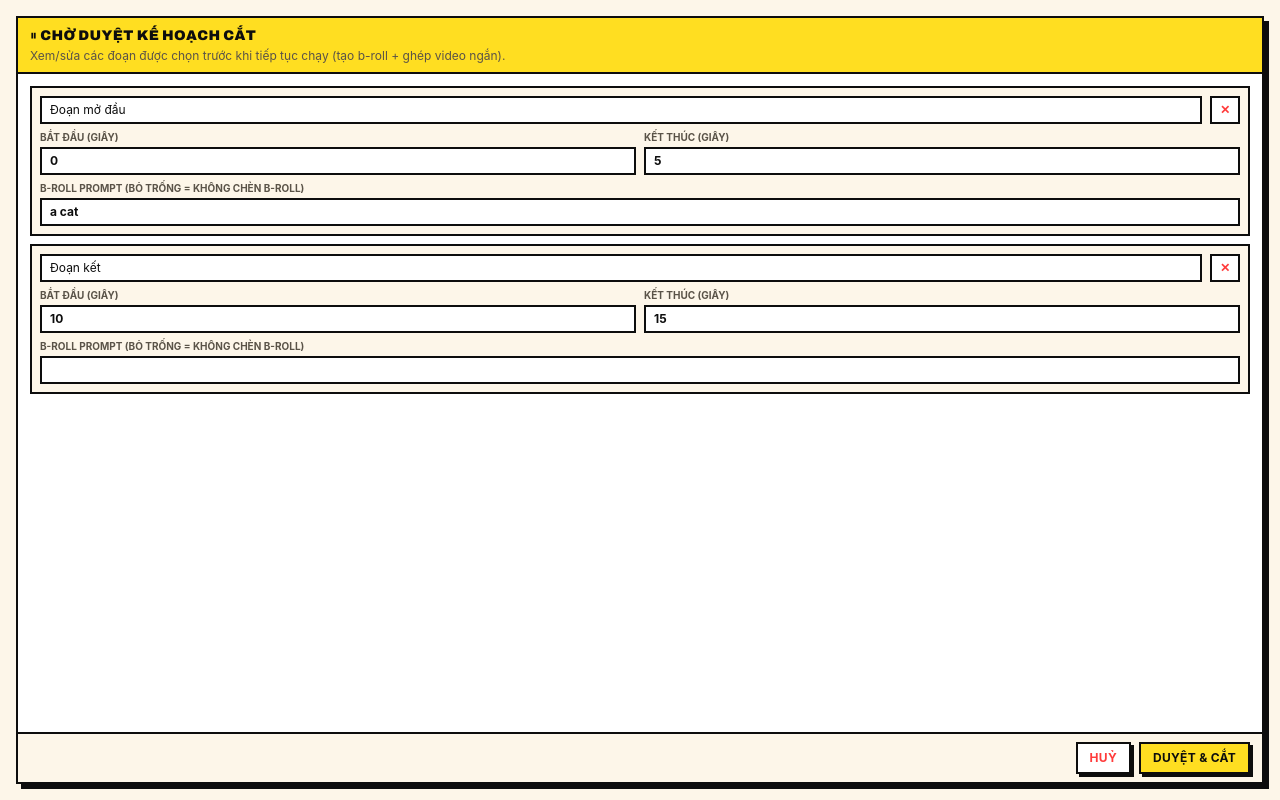
Test: CutPlanReview › disables "Duyệt & cắt" once every moment has been deleted
This screenshot has width=1280, height=800.
Click the button with test id "cutplan-delete-m1": (1225, 110) [1210,96,1240,124]
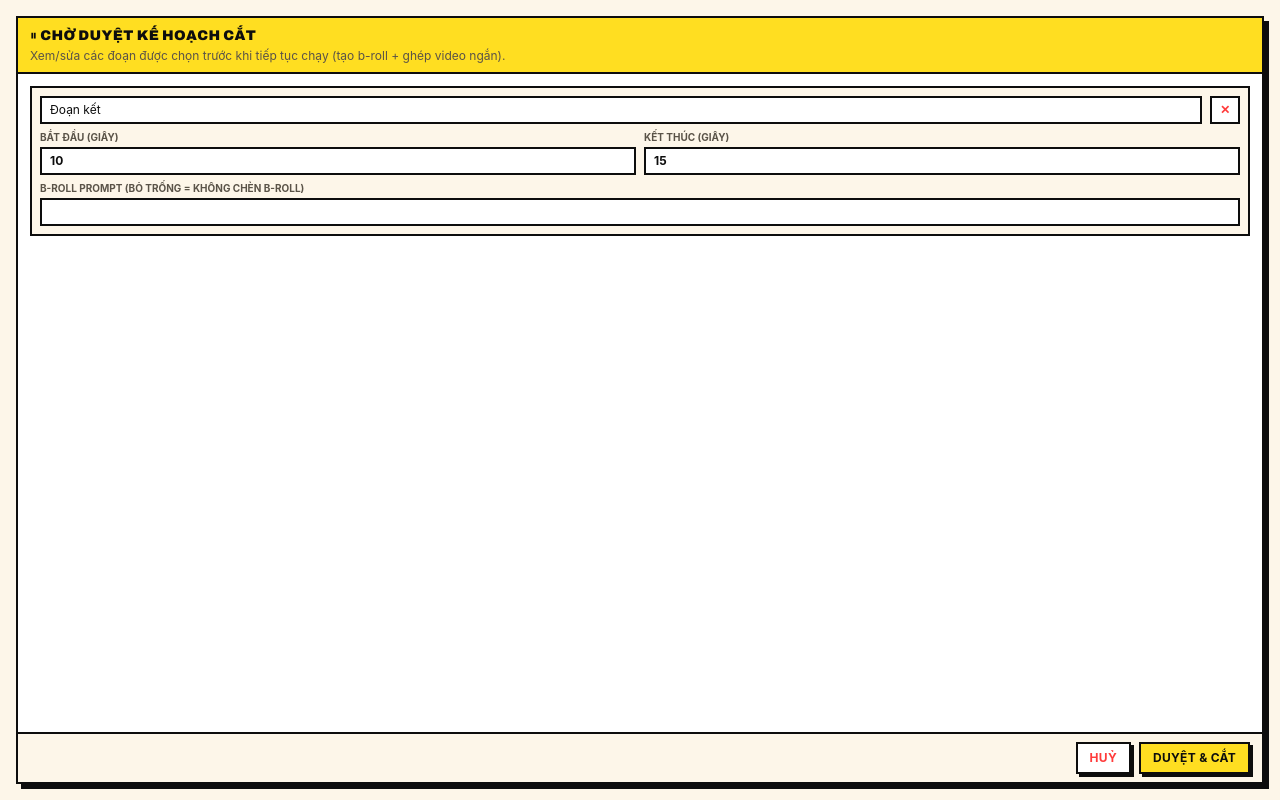
Click the button with test id "cutplan-delete-m2": (1225, 110) [1210,96,1240,124]
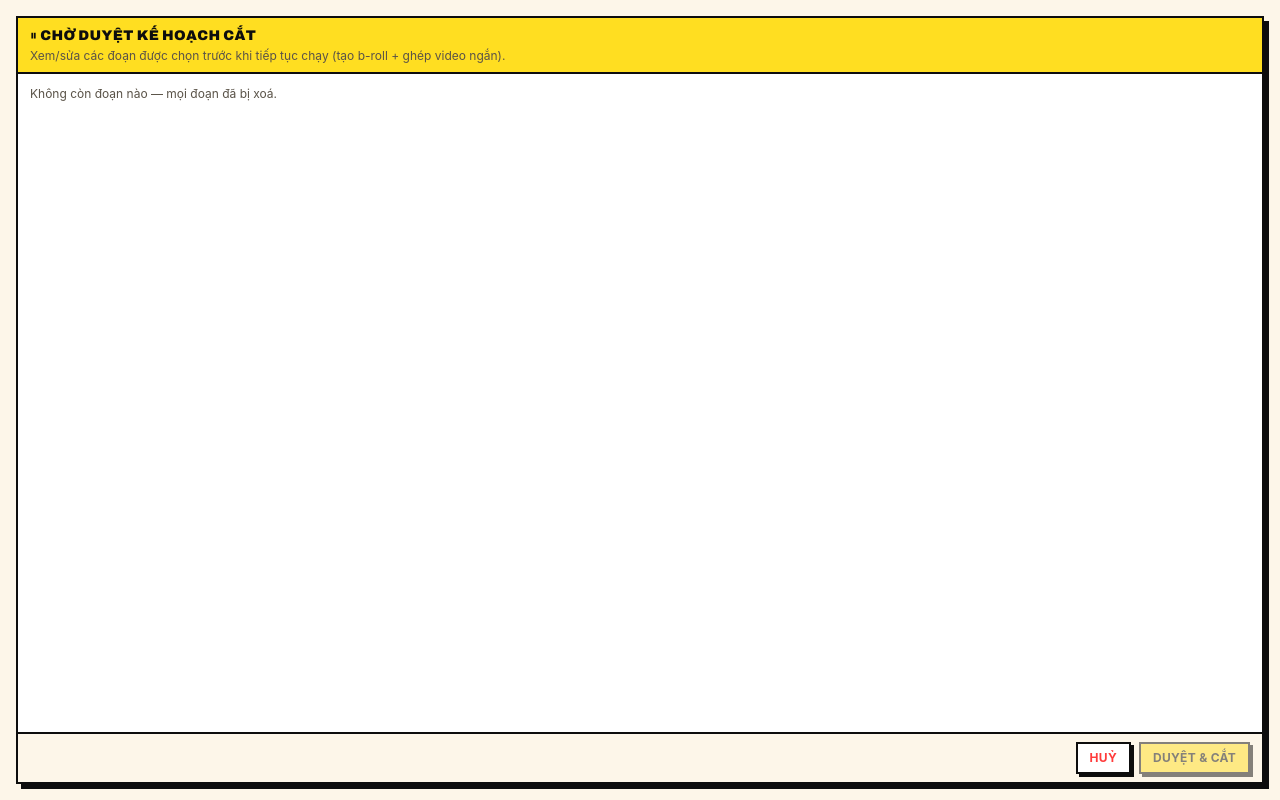
Expected: the button with test id "cutplan-approve" is disabled, [1139,742,1250,774]
